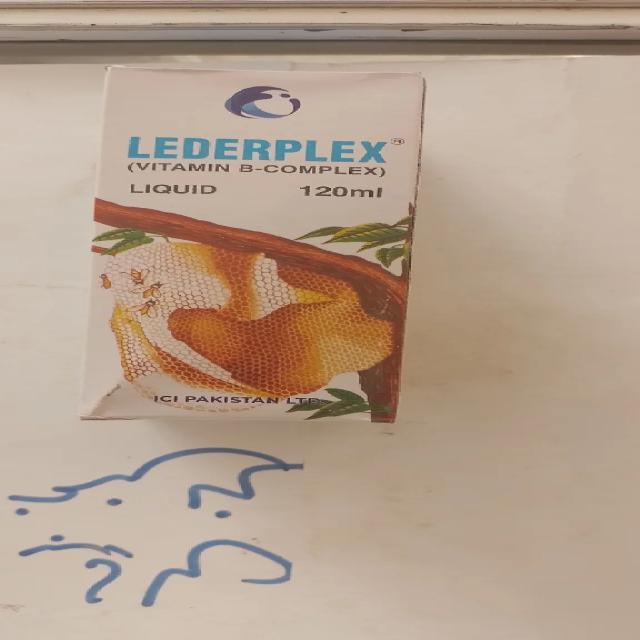drug-name: (126, 133, 384, 164)
